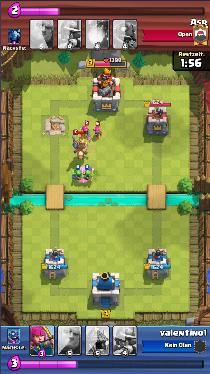ally_spear_goblin: (71, 169, 83, 180), (84, 168, 94, 181)
enemy_archer: (80, 125, 90, 138), (93, 127, 100, 140)
enemy_prince: (71, 135, 89, 159)
